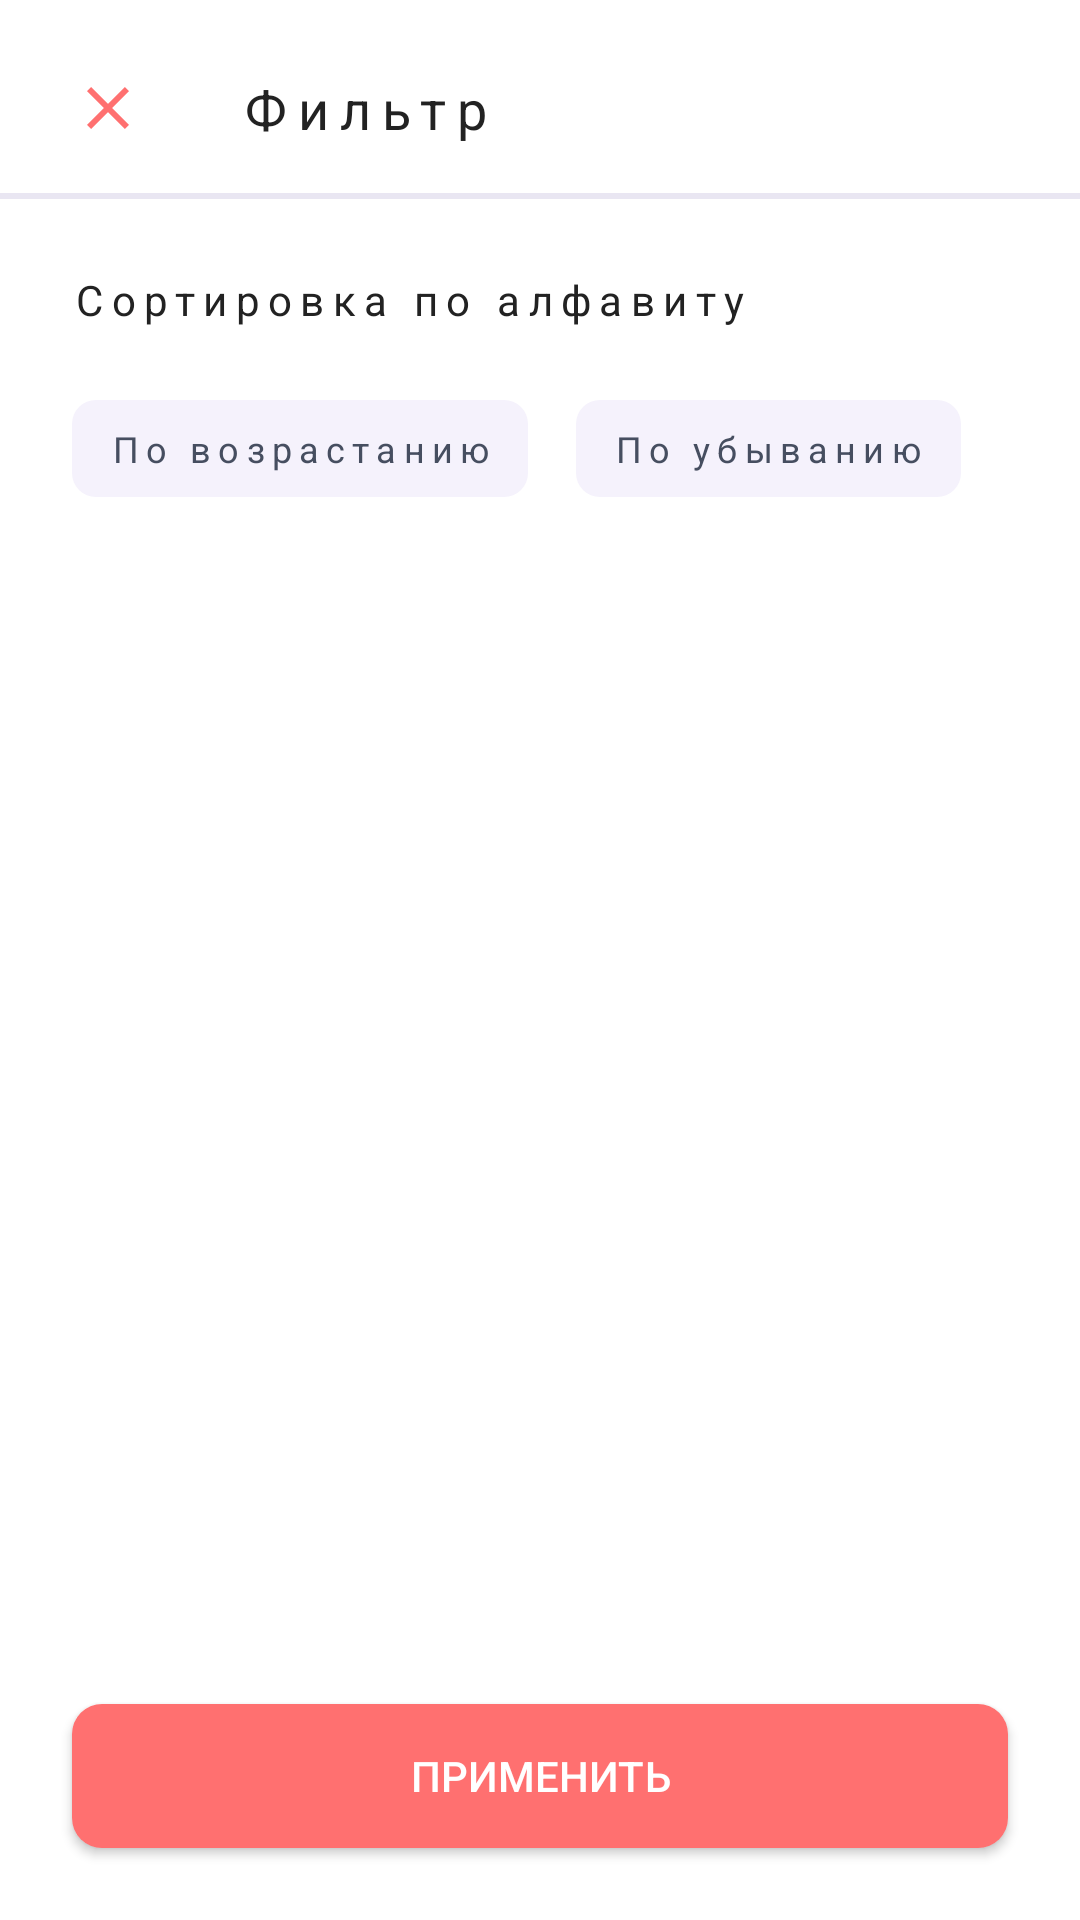

Screen size 1080px x 1920px. Icon name, then its center in pixels as (x,y):
close: (108,108)
